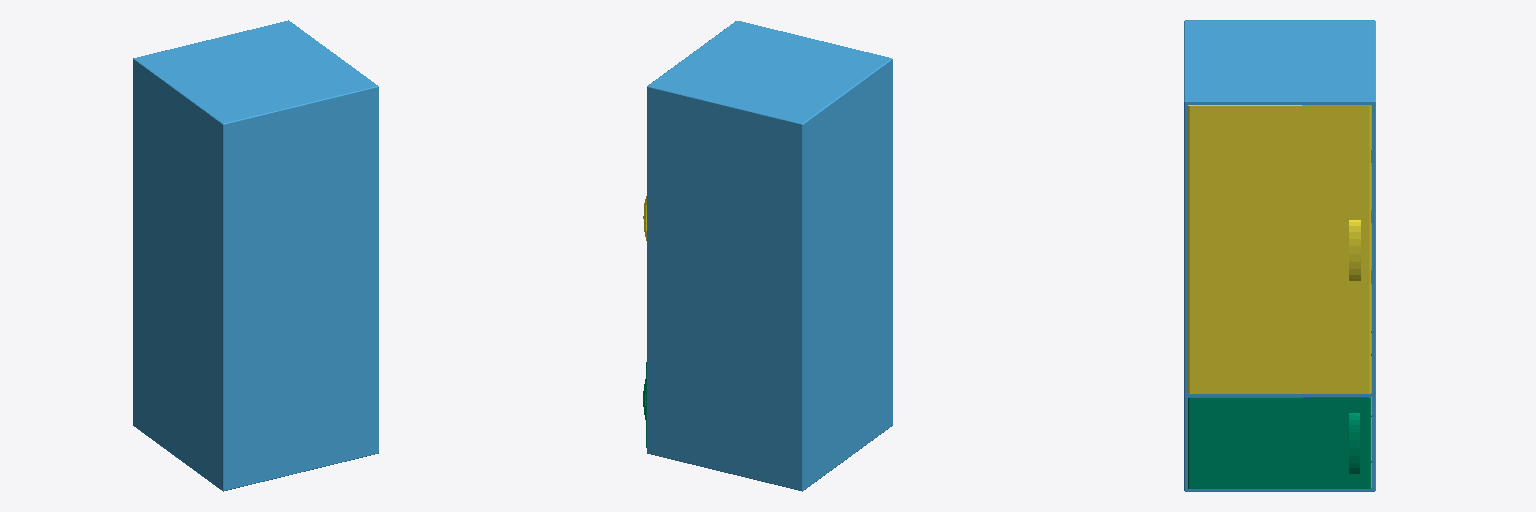
robot.urdf — fridge_robot:
<?xml version="1.0"?>

<robot name="fridge_robot" >

    <link name="world" />

    <!-- fridge_0001 -->
    <link name="fridge_0001">
        <inertial>
            <origin xyz="0 0 0" />
            <mass value="66.55810409914356" />
            <inertia ixx="0.0" ixy="0.0" ixz="0.0" iyy="0.0" iyz="0.0" izz="0.0" />
        </inertial>
        <visual>
            <origin xyz="0 0 0" />
            <geometry>
                <mesh filename="package://scene_builder/assets/interactive/fridge_0001/none_motion.obj" rpy="0 0 0" />
            </geometry>
        </visual>
        <collision>
            <origin xyz="0 0 0" />
            <geometry>
                <mesh filename="package://scene_builder/assets/interactive/fridge_0001/none_motion.obj" rpy="0 0 0" />
            </geometry>
        </collision>
    </link>


    <joint name="joint_structure" type="fixed">
        <origin xyz="0.000 0.000 0.000" rpy="0 0 0" />
        <parent link="world" />
        <child link="fridge_0001" />
    </joint>


    
    <link name="dof_rootd_Aa001_r">
        <inertial>
            <origin xyz="-0.0120242 0.186991 0.258249" />
            <mass value="3.4723016707927337" />
            <inertia ixx="0.0" ixy="0.0" ixz="0.0" iyy="0.0" iyz="0.0" izz="0.0" />
        </inertial>
        <visual>
            <origin xyz="-0.0120242 0.186991 0.258249" />
            <geometry>
                <mesh filename="package://scene_builder/assets/interactive/fridge_0001/dof_rootd_Aa001_r.obj" rpy="0 0 0" />
            </geometry>
        </visual>
        <collision>
            <origin xyz="-0.0120242 0.186991 0.258249" />
            <geometry>
                <mesh filename="package://scene_builder/assets/interactive/fridge_0001/dof_rootd_Aa001_r.obj" rpy="0 0 0" />
            </geometry>
        </collision>
    </link>

    <joint name="dof_rootd_Aa001_r" type="revolute">
        <origin xyz="0.0120242 -0.186991 -0.258249" rpy="0 0 1.65079632679" />
        <parent link="fridge_0001" />
        <child link="dof_rootd_Aa001_r" />
        <axis xyz="-0.00265158 -0.000674044 -0.999996" />
        <dynamics friction="0.5867301641997079" />
        <limit effort="0.0" velocity="0.5" lower="0.0" upper="0.8011998335445056"/>
    </joint>
    
        
    
    <link name="dof_rootd_Aa002_r">
        <inertial>
            <origin xyz="-0.0111599 0.187214 -0.489751" />
            <mass value="6.779880496514063" />
            <inertia ixx="0.0" ixy="0.0" ixz="0.0" iyy="0.0" iyz="0.0" izz="0.0" />
        </inertial>
        <visual>
            <origin xyz="-0.0111599 0.187214 -0.489751" />
            <geometry>
                <mesh filename="package://scene_builder/assets/interactive/fridge_0001/dof_rootd_Aa002_r.obj" rpy="0 0 0" />
            </geometry>
        </visual>
        <collision>
            <origin xyz="-0.0111599 0.187214 -0.489751" />
            <geometry>
                <mesh filename="package://scene_builder/assets/interactive/fridge_0001/dof_rootd_Aa002_r.obj" rpy="0 0 0" />
            </geometry>
        </collision>
    </link>

    <joint name="dof_rootd_Aa002_r" type="revolute">
        <origin xyz="0.0111599 -0.187214 0.489751" rpy="0 0 1.65079632679" />
        <parent link="fridge_0001" />
        <child link="dof_rootd_Aa002_r" />
        <axis xyz="0.00129135 0.000292879 -0.999999" />
        <dynamics friction="0.6519199645177302" />
        <limit effort="0.0" velocity="0.5" lower="0.0" upper="1.231625295881653"/>
    </joint>
    
        
    
    <link name="dof_rootd_Ba001_t">
        <inertial>
            <origin xyz="0.315477 -0.235638 0.483744" />
            <mass value="8.103692484278243" />
            <inertia ixx="0.0" ixy="0.0" ixz="0.0" iyy="0.0" iyz="0.0" izz="0.0" />
        </inertial>
        <visual>
            <origin xyz="0.315477 -0.235638 0.483744" />
            <geometry>
                <mesh filename="package://scene_builder/assets/interactive/fridge_0001/dof_rootd_Ba001_t.obj" rpy="0 0 0" />
            </geometry>
        </visual>
        <collision>
            <origin xyz="0.315477 -0.235638 0.483744" />
            <geometry>
                <mesh filename="package://scene_builder/assets/interactive/fridge_0001/dof_rootd_Ba001_t.obj" rpy="0 0 0" />
            </geometry>
        </collision>
    </link>

    <joint name="dof_rootd_Ba001_t" type="prismatic">
        <origin xyz="-0.315477 0.235638 -0.483744" rpy="0 0 0" />
        <parent link="fridge_0001" />
        <child link="dof_rootd_Ba001_t" />
        <axis xyz="1.0 0.0 2.22045e-16" />
        <dynamics friction="0.7296427670420113" />
        <limit effort="0.0" velocity="0.5" lower="0.0" upper="0.17546906696179498"/>
    </joint>
    
        
    
    <link name="dof_rootd_Ba002_t">
        <inertial>
            <origin xyz="0.31548 -0.235638 0.367993" />
            <mass value="4.070265664291003" />
            <inertia ixx="0.0" ixy="0.0" ixz="0.0" iyy="0.0" iyz="0.0" izz="0.0" />
        </inertial>
        <visual>
            <origin xyz="0.31548 -0.235638 0.367993" />
            <geometry>
                <mesh filename="package://scene_builder/assets/interactive/fridge_0001/dof_rootd_Ba002_t.obj" rpy="0 0 0" />
            </geometry>
        </visual>
        <collision>
            <origin xyz="0.31548 -0.235638 0.367993" />
            <geometry>
                <mesh filename="package://scene_builder/assets/interactive/fridge_0001/dof_rootd_Ba002_t.obj" rpy="0 0 0" />
            </geometry>
        </collision>
    </link>

    <joint name="dof_rootd_Ba002_t" type="prismatic">
        <origin xyz="-0.31548 0.235638 -0.367993" rpy="0 0 0" />
        <parent link="fridge_0001" />
        <child link="dof_rootd_Ba002_t" />
        <axis xyz="1.0 0.0 2.22045e-16" />
        <dynamics friction="0.22004291780520058" />
        <limit effort="0.0" velocity="0.5" lower="0.0" upper="0.1963220250432134"/>
    </joint>
    
        
    
    <link name="dof_rootd_Ba003_t">
        <inertial>
            <origin xyz="0.315993 -0.235638 0.241258" />
            <mass value="4.627750398617074" />
            <inertia ixx="0.0" ixy="0.0" ixz="0.0" iyy="0.0" iyz="0.0" izz="0.0" />
        </inertial>
        <visual>
            <origin xyz="0.315993 -0.235638 0.241258" />
            <geometry>
                <mesh filename="package://scene_builder/assets/interactive/fridge_0001/dof_rootd_Ba003_t.obj" rpy="0 0 0" />
            </geometry>
        </visual>
        <collision>
            <origin xyz="0.315993 -0.235638 0.241258" />
            <geometry>
                <mesh filename="package://scene_builder/assets/interactive/fridge_0001/dof_rootd_Ba003_t.obj" rpy="0 0 0" />
            </geometry>
        </collision>
    </link>

    <joint name="dof_rootd_Ba003_t" type="prismatic">
        <origin xyz="-0.315993 0.235638 -0.241258" rpy="0 0 0" />
        <parent link="fridge_0001" />
        <child link="dof_rootd_Ba003_t" />
        <axis xyz="1.0 0.0 2.22045e-16" />
        <dynamics friction="0.6820094481200811" />
        <limit effort="0.0" velocity="0.5" lower="0.0" upper="0.12175316474203558"/>
    </joint>

</robot>
        

--- What the picture shows (computed from the rendered views, not written in the file) ---
Views: 3 orthographic renders of the robot side by side, from view 1: azimuth 30°, elevation 25°; view 2: azimuth 150°, elevation 25°; view 3: azimuth 270°, elevation 25°.
Robot: fridge_robot — 7 links, 6 joints (2 revolute, 3 prismatic, 1 fixed); root link world; default pose: all joints at 0.
Visible links, largest first — view 1: fridge_0001; view 2: fridge_0001; view 3: dof_rootd_Aa002_r, fridge_0001, dof_rootd_Aa001_r.
Link boxes in pixels (<box>): fridge_0001: <box>133,20,378,491</box>; fridge_0001: <box>647,21,892,491</box>; dof_rootd_Aa002_r: <box>1188,105,1370,393</box>; fridge_0001: <box>1184,20,1375,491</box>; dof_rootd_Aa001_r: <box>1188,397,1370,488</box>.
Size in the robot's own frame: 0.4754 by 0.4452 by 1 metres.
6 mesh visuals loaded from 6 distinct referenced files (6 OBJ).